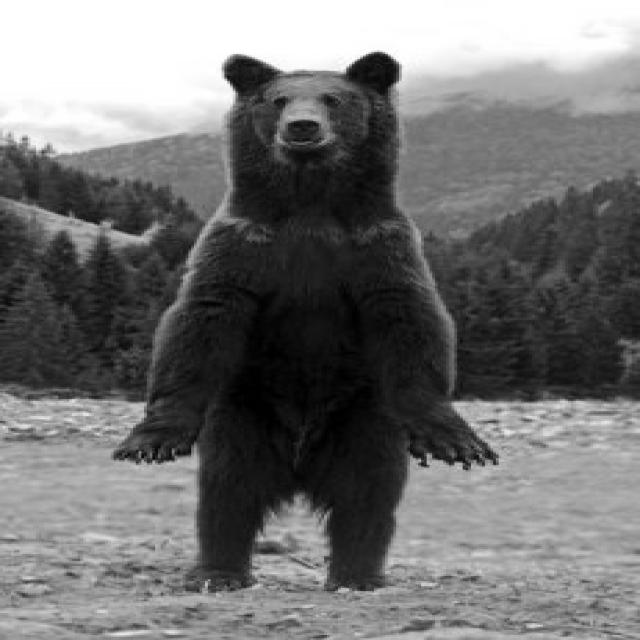Animal: (104, 44, 507, 592)
